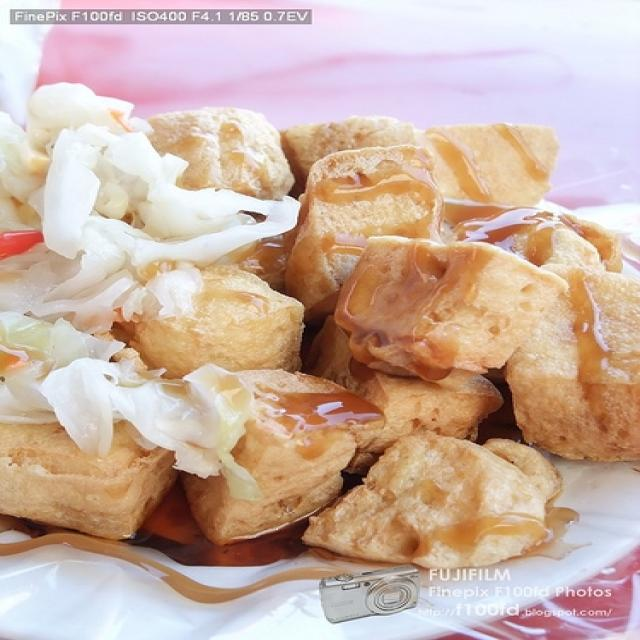豆腐料理: (1, 47, 612, 628)
